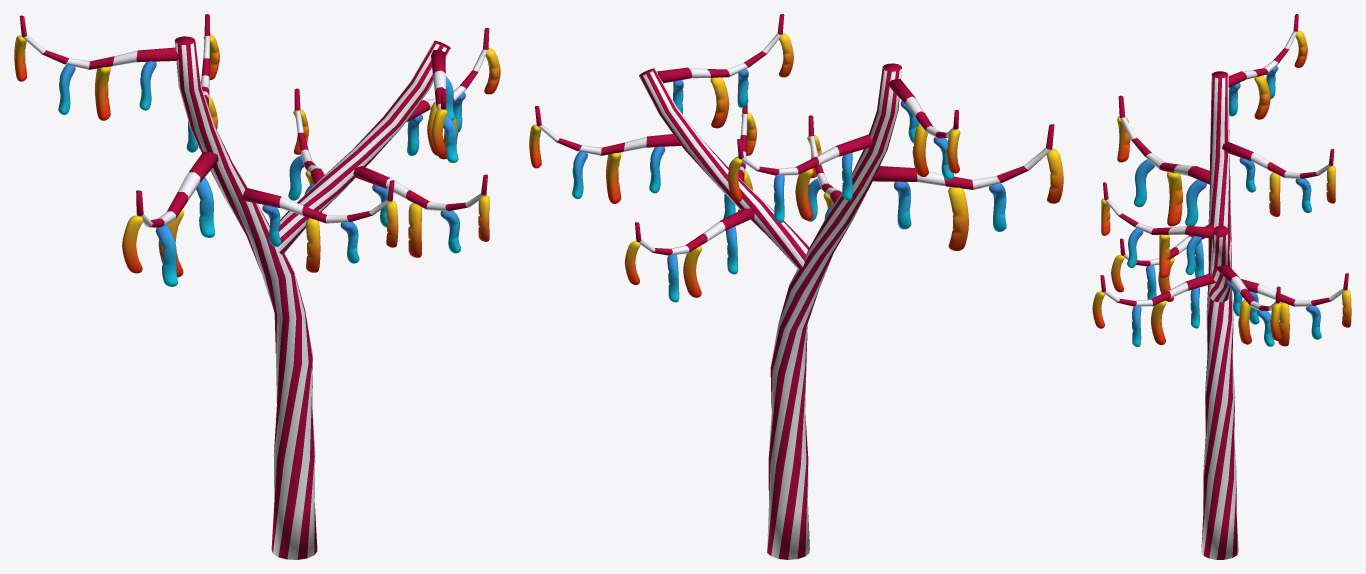
File: cw_tree_22.fbx
3 views of the same model, side by side, from view 1: azimuth 30°, elevation 25°; view 2: azimuth 150°, elevation 25°; view 3: azimuth 270°, elevation 25° (orthographic). The views are drawn at different scales.
Visible parts, largest first — view 1: cw_t_22; view 2: cw_t_22; view 3: cw_t_22.
Boxes of the visible parts, <box> form: cw_t_22: <box>14,14,500,559</box>; cw_t_22: <box>529,14,1063,559</box>; cw_t_22: <box>1092,14,1351,559</box>.
Size of the model in its own units: 170 by 191 by 100.
